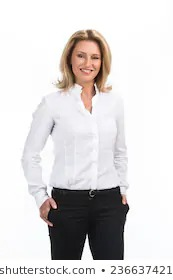F_W_pants: (45, 193, 129, 258)
F_belt: (51, 186, 127, 199)
F_shirt: (16, 85, 131, 208)
